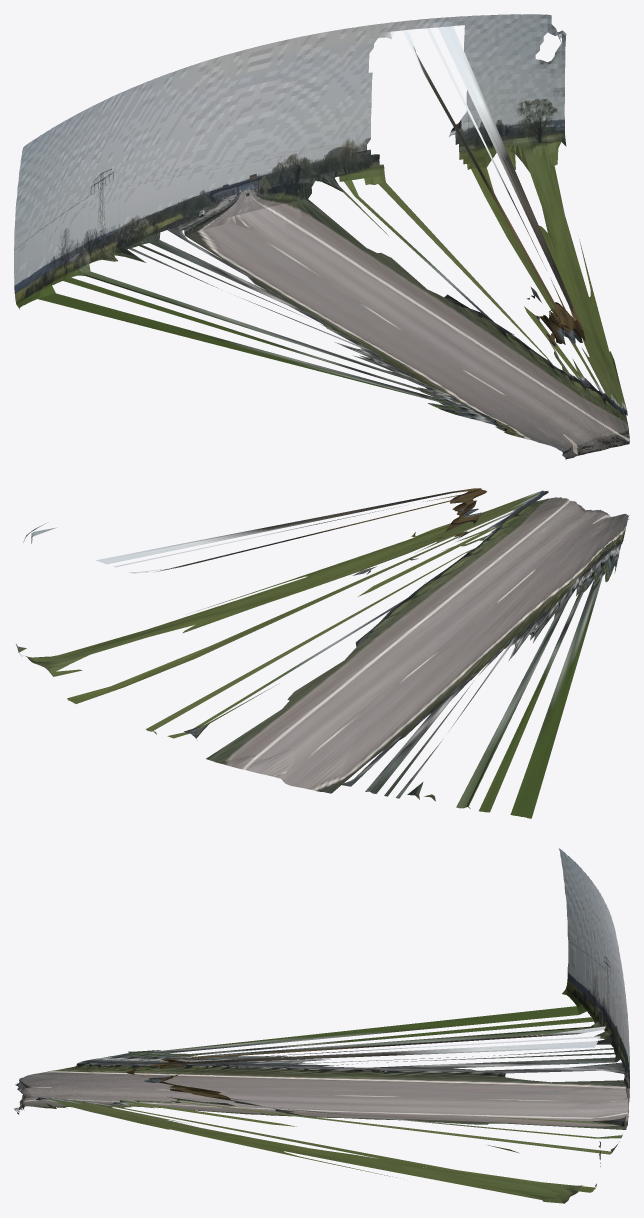
3 renders of one model, top to bottom at view 1: azimuth 30°, elevation 25°; view 2: azimuth 150°, elevation 25°; view 3: azimuth 270°, elevation 25°, orthographic. The views are drawn at different scales.
Parts seen in each view (by area): view 1: defaultobject; view 2: defaultobject; view 3: defaultobject.
Boxes of the visible parts, <box> form: defaultobject: <box>14,14,629,459</box>; defaultobject: <box>16,488,629,818</box>; defaultobject: <box>14,848,629,1203</box>.
Bounding box in the file's own units: 41.14 × 12.62 × 44.59.
1 material, 1 textured.
